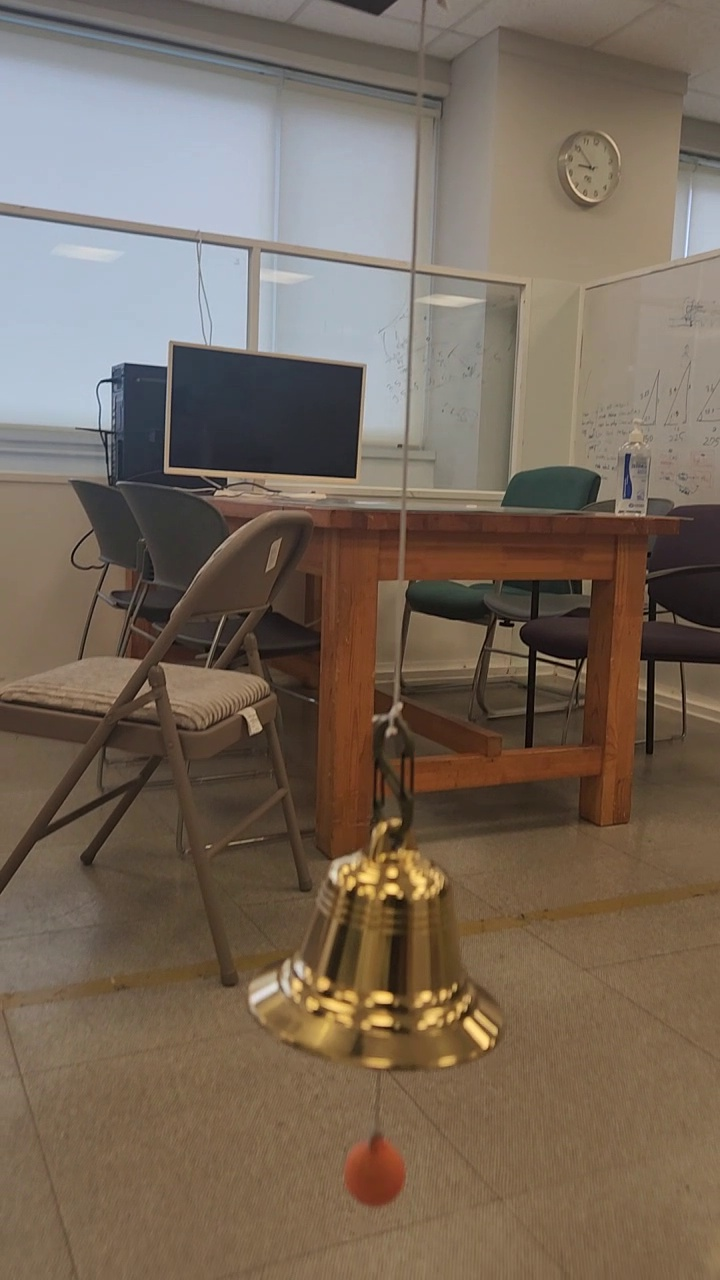bell: (249, 818, 500, 1069)
